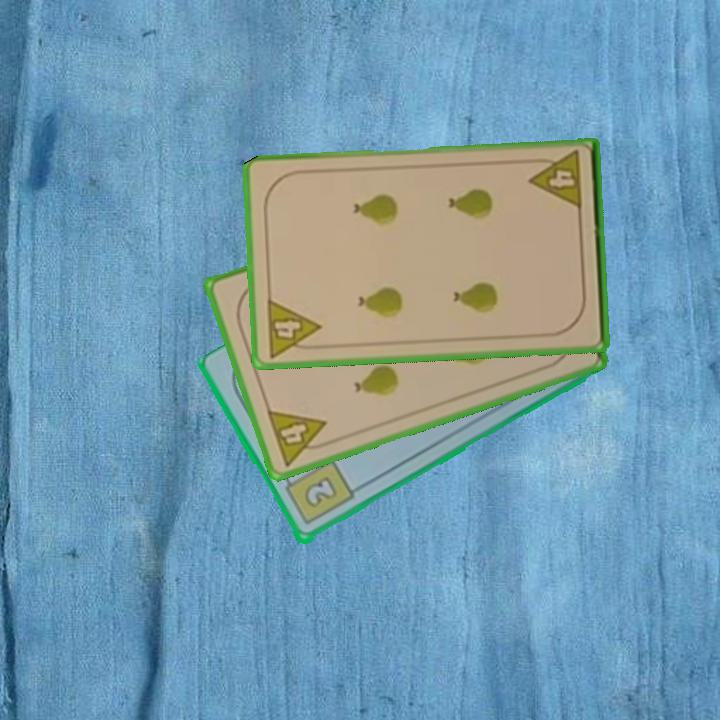2b: (279, 456, 357, 529)
4p: (263, 406, 336, 469), (263, 295, 324, 360), (526, 147, 585, 213)
